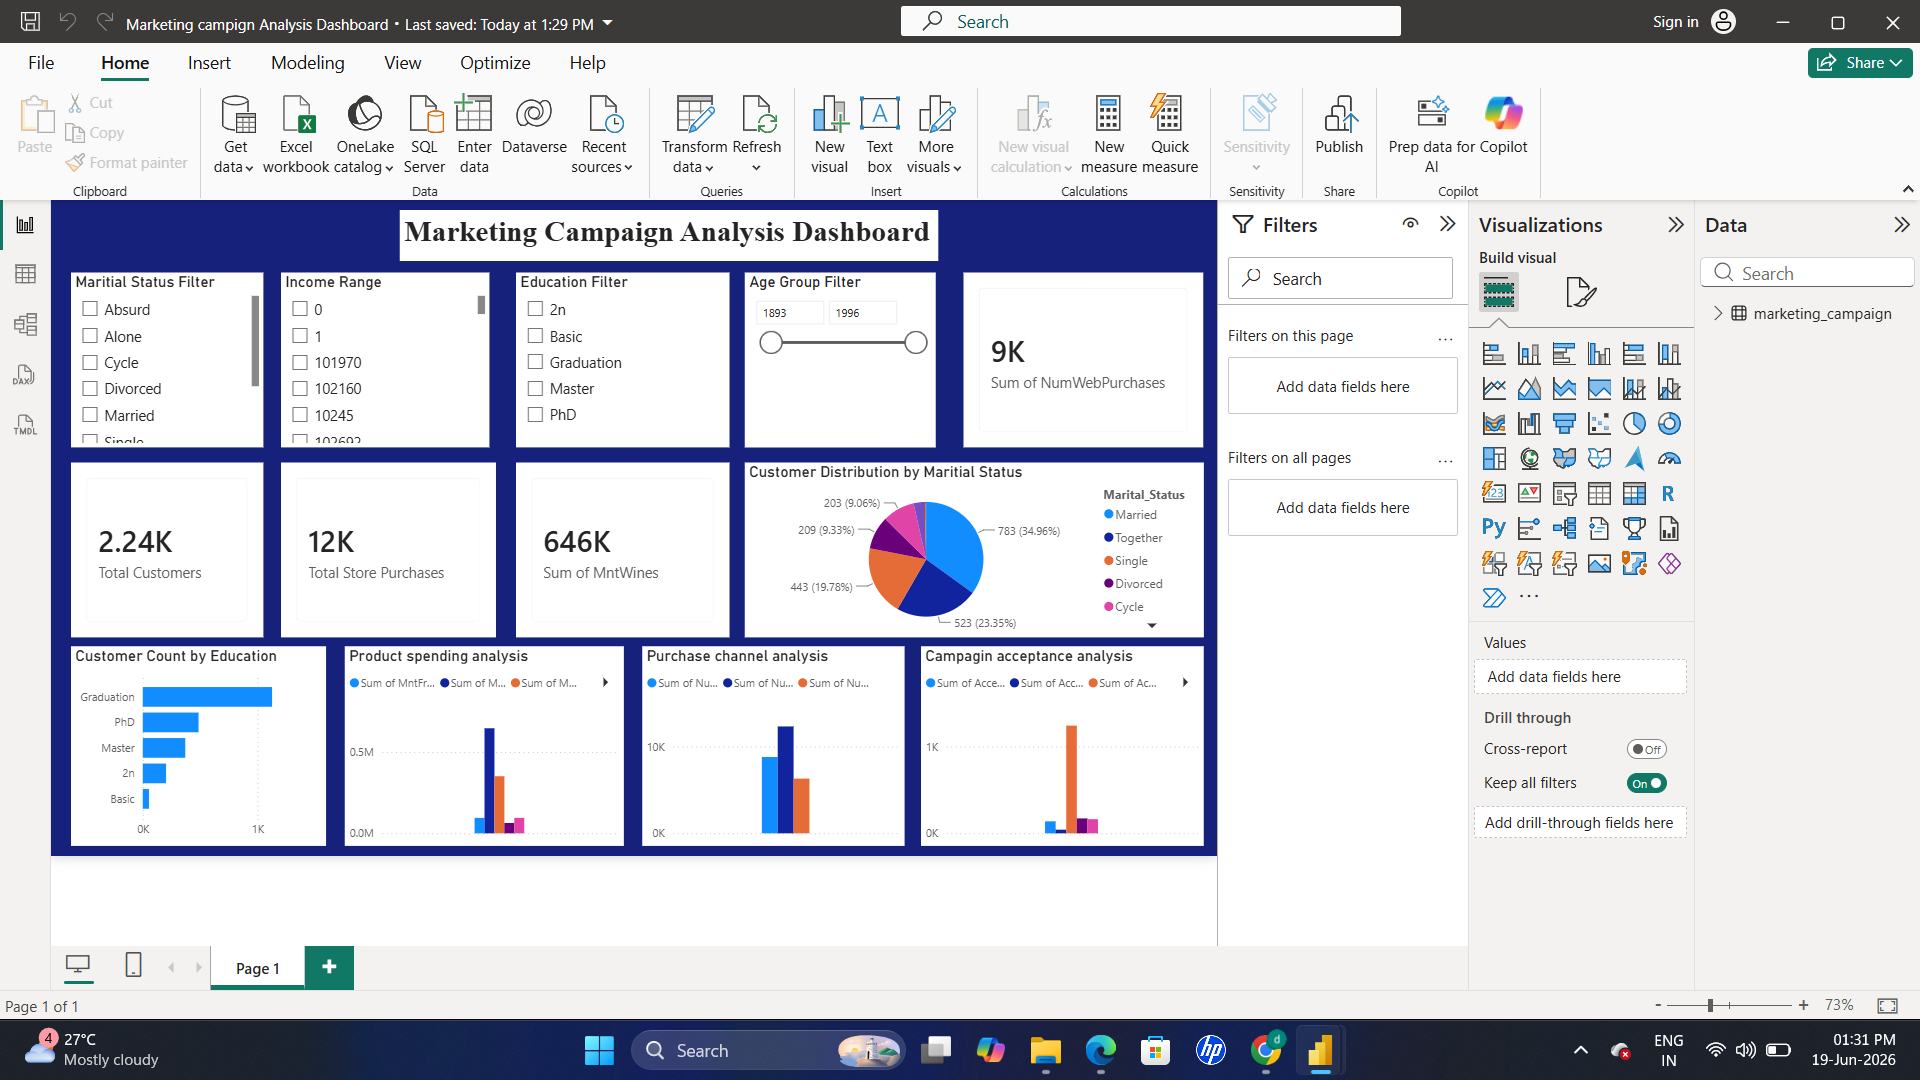

Layout of this report page (visuals, bound fields, positions):
{"tool":"powerbi","page":{"name":"Page 1","canvas":[1280,720],"ordinal":0},"visuals":[{"type":"cardVisual","fields":{"Data":["CountNonNull(marketing_campaign.ID)"]},"box":[22,288.2,211.3,192.1],"z":0},{"type":"cardVisual","fields":{"Data":["Sum(marketing_campaign.NumStorePurchases)"]},"box":[252.5,288.2,236,192.1],"z":1000},{"type":"cardVisual","fields":{"Data":["Sum(marketing_campaign.MntWines)"]},"box":[510.5,288.2,234.6,192.1],"z":2000},{"type":"cardVisual","fields":{"Data":["Sum(marketing_campaign.NumWebPurchases)"]},"box":[1001.7,79.6,263.5,192.1],"z":3000},{"type":"clusteredBarChart","title":"Customer Count  by Education","fields":{"Category":["marketing_campaign.Education"],"Y":["CountNonNull(marketing_campaign.ID)"]},"box":[22,489.9,279.9,219.6],"z":4000},{"type":"clusteredColumnChart","title":"Product spending analysis","fields":{"Y":["Sum(marketing_campaign.MntFruits)","Sum(marketing_campaign.MntWines)","Sum(marketing_campaign.MntMeatProducts)","Sum(marketing_campaign.MntSweetProducts)","Sum(marketing_campaign.MntGoldProds)"]},"box":[322.5,489.9,306,219.6],"z":5000},{"type":"clusteredColumnChart","title":"Purchase channel analysis","fields":{"Y":["Sum(marketing_campaign.NumWebPurchases)","Sum(marketing_campaign.NumStorePurchases)","Sum(marketing_campaign.NumCatalogPurchases)"]},"box":[649.1,489.9,288.2,219.6],"z":6000},{"type":"clusteredColumnChart","title":"Campagin acceptance analysis","fields":{"Y":["Sum(marketing_campaign.AcceptedCmp1)","Sum(marketing_campaign.AcceptedCmp2)","Sum(marketing_campaign.AcceptedCmp3)","Sum(marketing_campaign.AcceptedCmp4)","Sum(marketing_campaign.AcceptedCmp5)"]},"box":[955.1,489.9,310.1,219.6],"z":7000},{"type":"pieChart","title":"Customer Distribution by Maritial Status","fields":{"Y":["CountNonNull(marketing_campaign.ID)"],"Category":["marketing_campaign.Marital_Status"]},"box":[761.6,288.2,503.6,192.1],"z":8000},{"type":"slicer","title":"Education Filter","fields":{"Values":["marketing_campaign.Education"]},"box":[510.5,79.6,234.6,192.1],"z":9000},{"type":"slicer","title":"Maritial Status Filter","fields":{"Values":["marketing_campaign.Marital_Status"]},"box":[22,79.6,211.3,192.1],"z":10000},{"type":"slicer","title":"Income Range","fields":{"Values":["marketing_campaign.Income"]},"box":[252.5,79.6,229.2,192.1],"z":11000},{"type":"slicer","title":"Age Group Filter","fields":{"Values":["marketing_campaign.Year_Birth"]},"box":[761.6,79.6,208.6,192.1],"z":12000},{"type":"textbox","box":[382.8,11,591.4,56.3],"z":13000}]}

Visuals, with their boxes on the page's 1280x720 design canvas (x1, y1, x2, y2). These are canvas units, not pixel positions in the 1920x1080 screenshot, which may show the page scaled, cropped or inside an application window:
cardVisual - CountNonNull(marketing_campaign.ID): {"left": 22, "top": 288, "right": 233, "bottom": 480}
cardVisual - Sum(marketing_campaign.NumStorePurchases): {"left": 252, "top": 288, "right": 488, "bottom": 480}
cardVisual - Sum(marketing_campaign.MntWines): {"left": 510, "top": 288, "right": 745, "bottom": 480}
cardVisual - Sum(marketing_campaign.NumWebPurchases): {"left": 1002, "top": 80, "right": 1265, "bottom": 272}
"Customer Count  by Education" clusteredBarChart: {"left": 22, "top": 490, "right": 302, "bottom": 710}
"Product spending analysis" clusteredColumnChart: {"left": 322, "top": 490, "right": 628, "bottom": 710}
"Purchase channel analysis" clusteredColumnChart: {"left": 649, "top": 490, "right": 937, "bottom": 710}
"Campagin acceptance analysis" clusteredColumnChart: {"left": 955, "top": 490, "right": 1265, "bottom": 710}
"Customer Distribution by Maritial Status" pieChart: {"left": 762, "top": 288, "right": 1265, "bottom": 480}
"Education Filter" slicer: {"left": 510, "top": 80, "right": 745, "bottom": 272}
"Maritial Status Filter" slicer: {"left": 22, "top": 80, "right": 233, "bottom": 272}
"Income Range" slicer: {"left": 252, "top": 80, "right": 482, "bottom": 272}
"Age Group Filter" slicer: {"left": 762, "top": 80, "right": 970, "bottom": 272}
textbox: {"left": 383, "top": 11, "right": 974, "bottom": 67}
